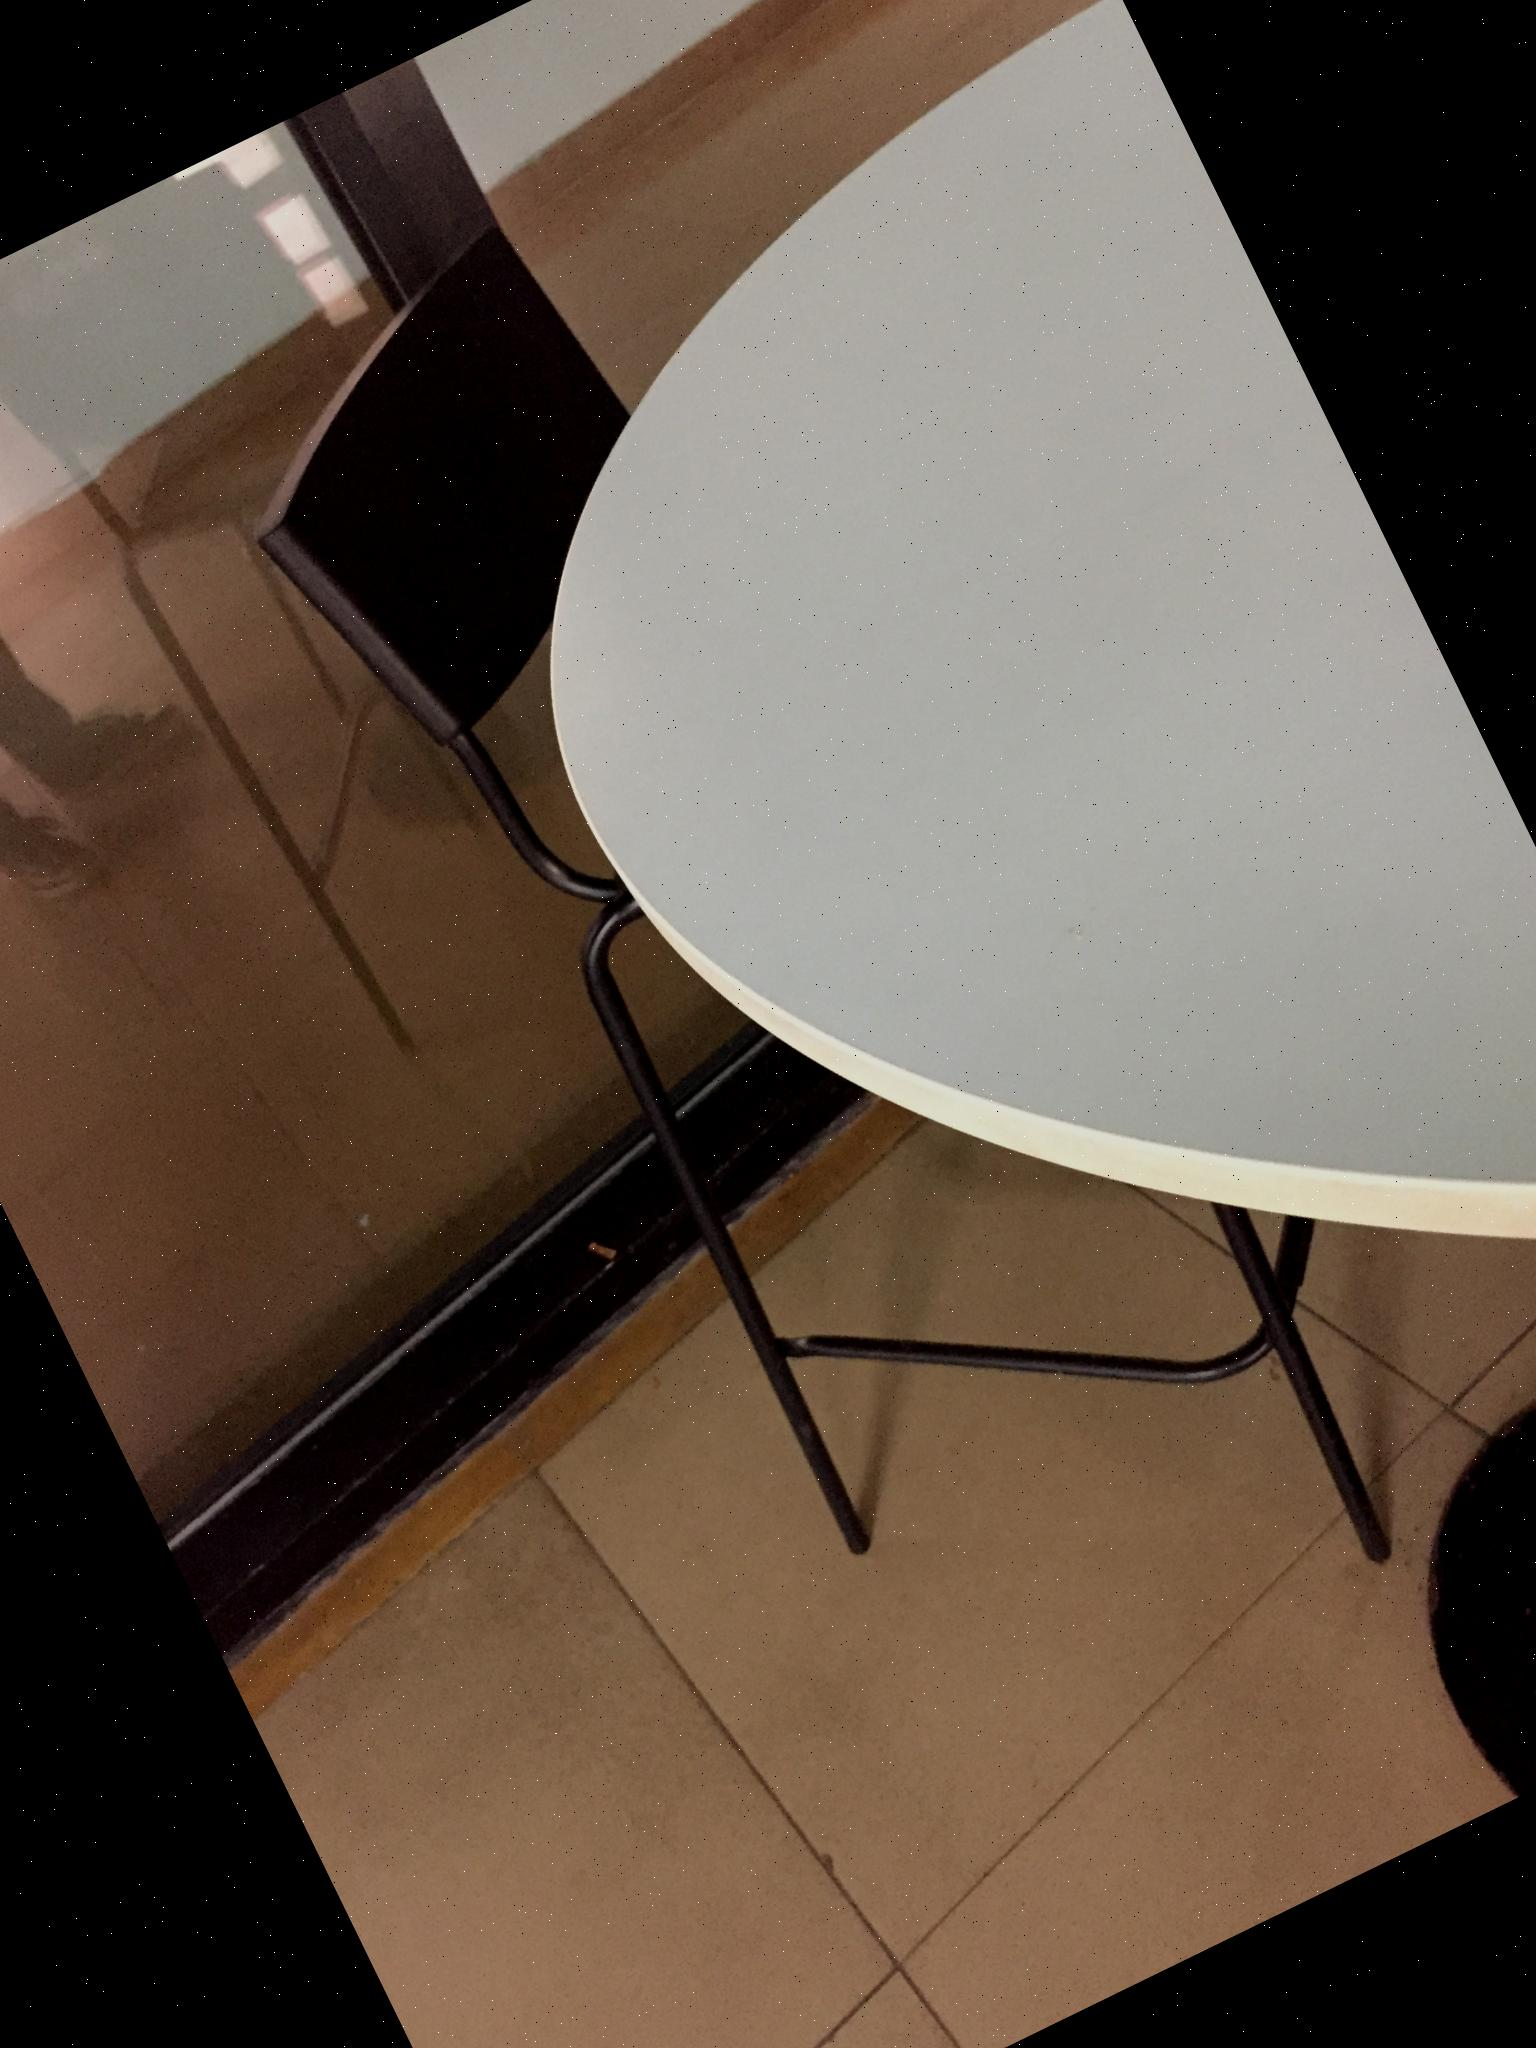chair: (105, 21, 1536, 1842)
